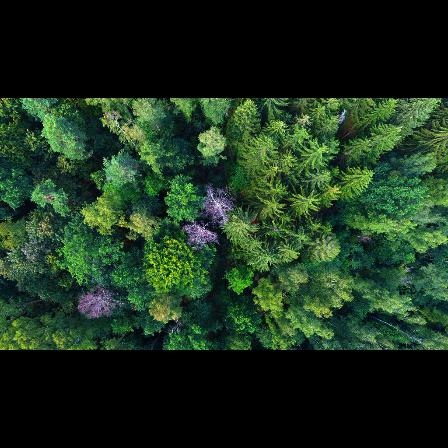Dead: (75, 287, 125, 322), (179, 223, 220, 253), (200, 185, 233, 222)
